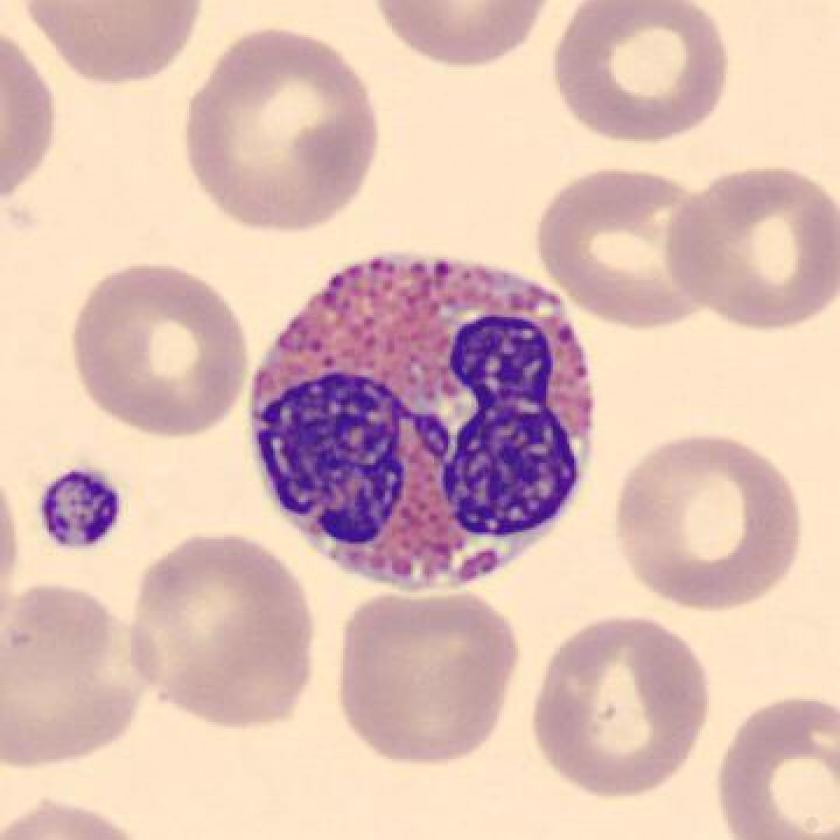eosinophil: (239, 239, 612, 598)
